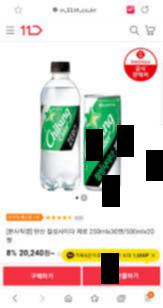chilsungcider_zero: (83, 92, 124, 195)
